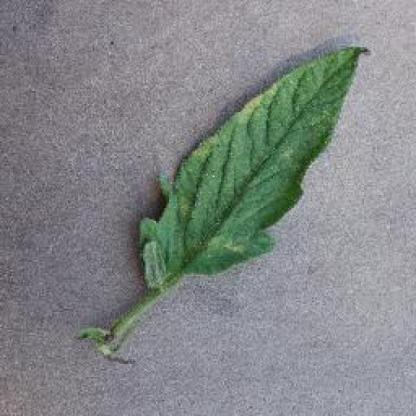Tomato_Leaf_Mold: (142, 40, 373, 296)
